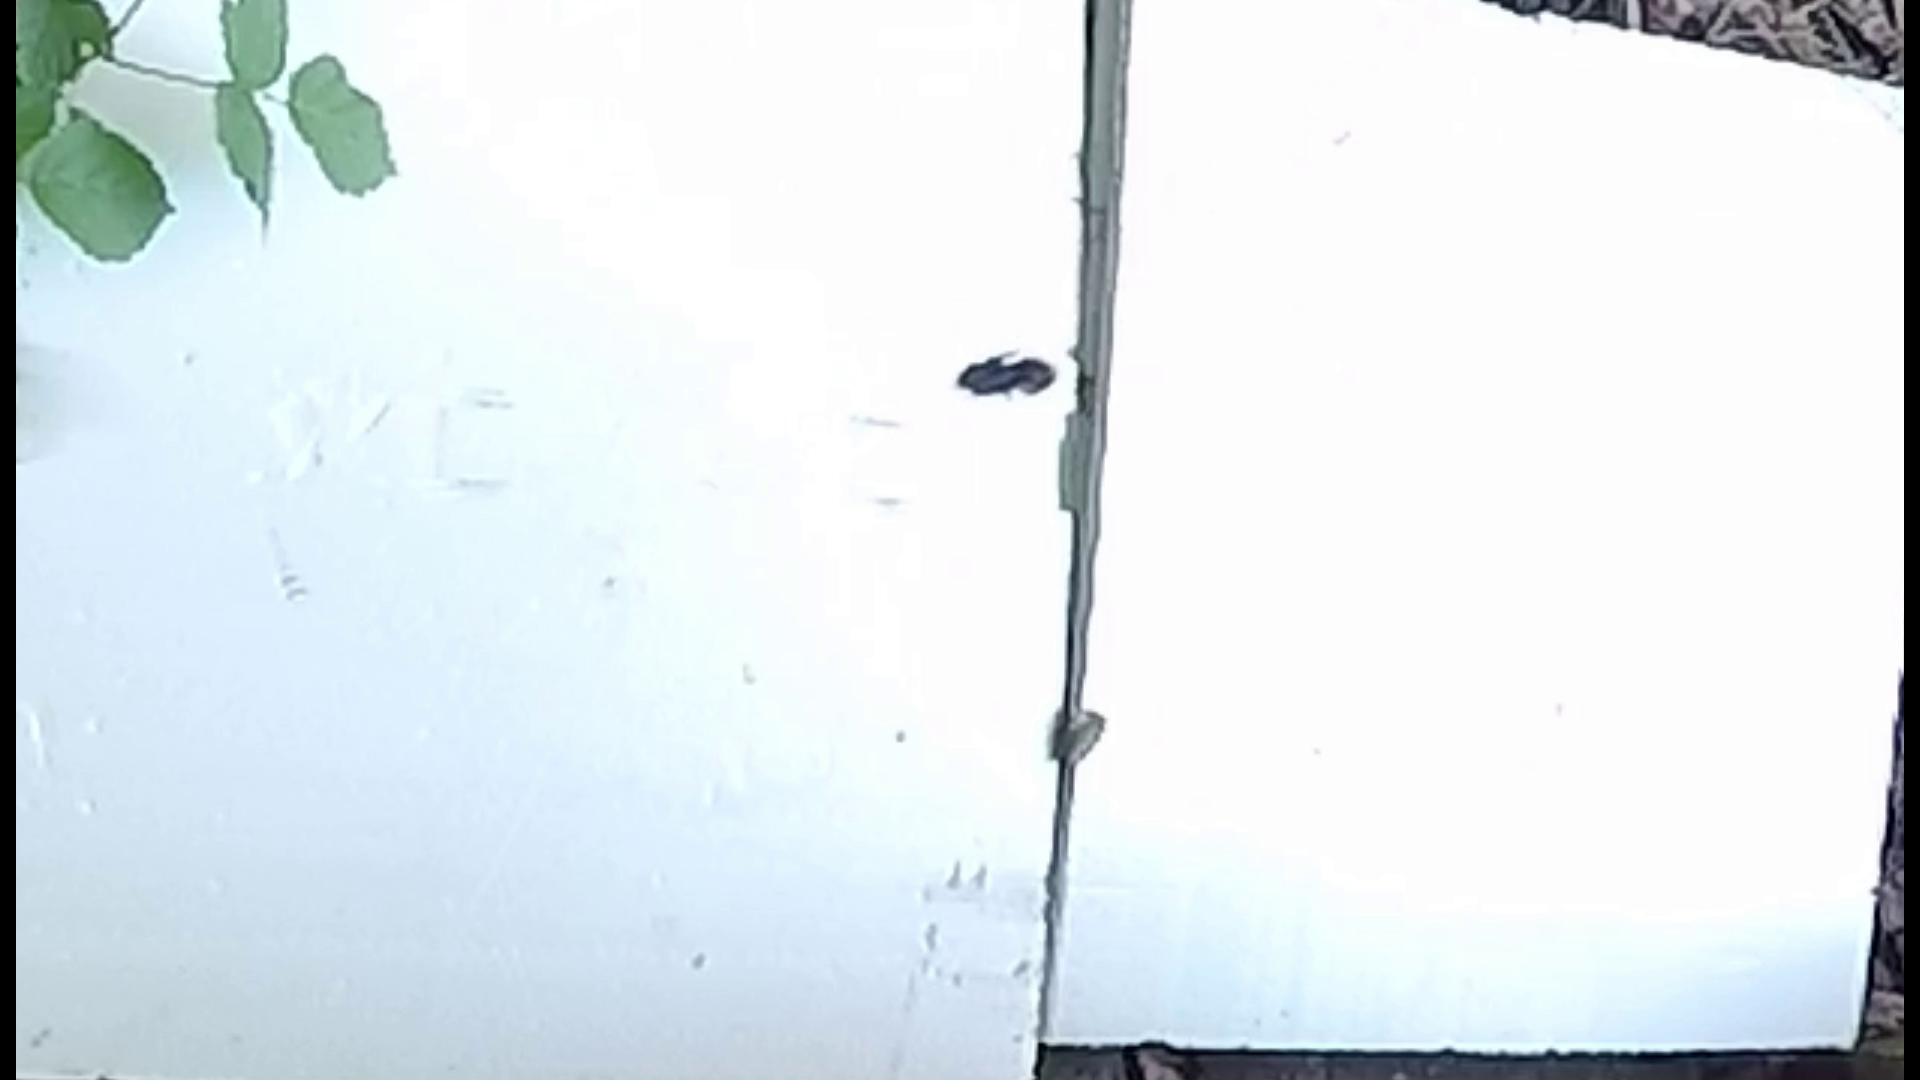Asian_hornets: (920, 336, 1069, 417)
